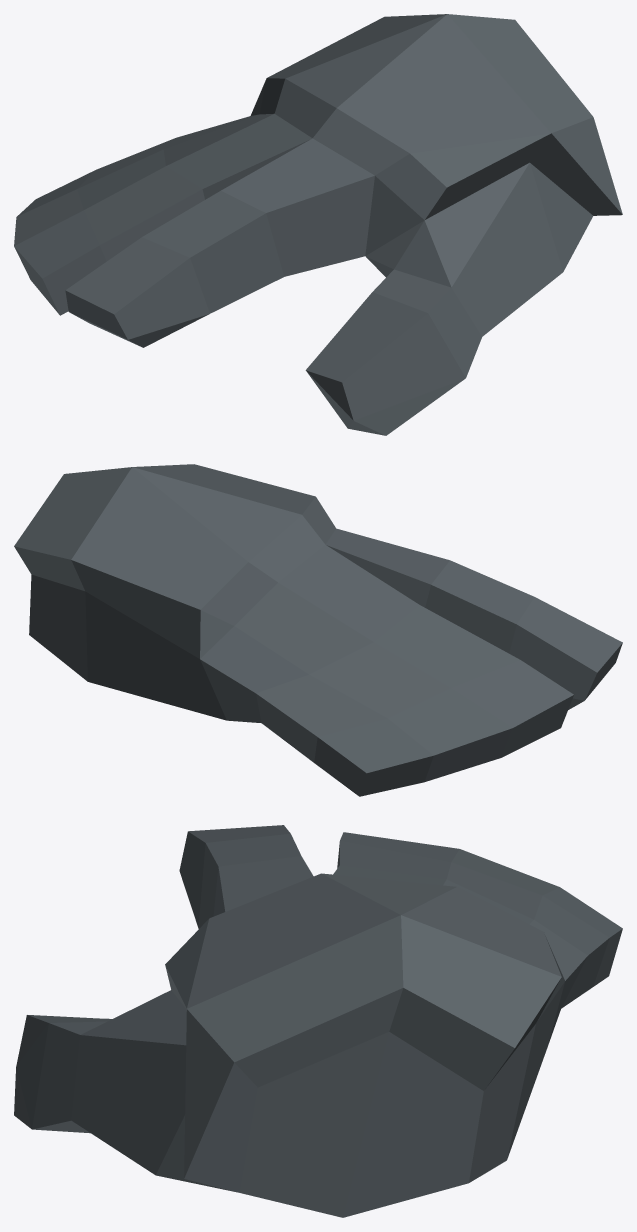
Rendered from Chr_HandRight_Male_06_Static.fbx.
3 renders of one model, top to bottom at view 1: azimuth 30°, elevation 25°; view 2: azimuth 150°, elevation 25°; view 3: azimuth 270°, elevation 25°, orthographic. The views are drawn at different scales.
Visible parts, largest first — view 1: Chr_HandRight_Male_06_Static; view 2: Chr_HandRight_Male_06_Static; view 3: Chr_HandRight_Male_06_Static.
Part boxes in pixels (bbox=[...]): Chr_HandRight_Male_06_Static: bbox=[14, 14, 622, 435]; Chr_HandRight_Male_06_Static: bbox=[14, 464, 622, 796]; Chr_HandRight_Male_06_Static: bbox=[14, 825, 622, 1217].
Size of the model in its own units: 0.2371 by 0.1202 by 0.188.
